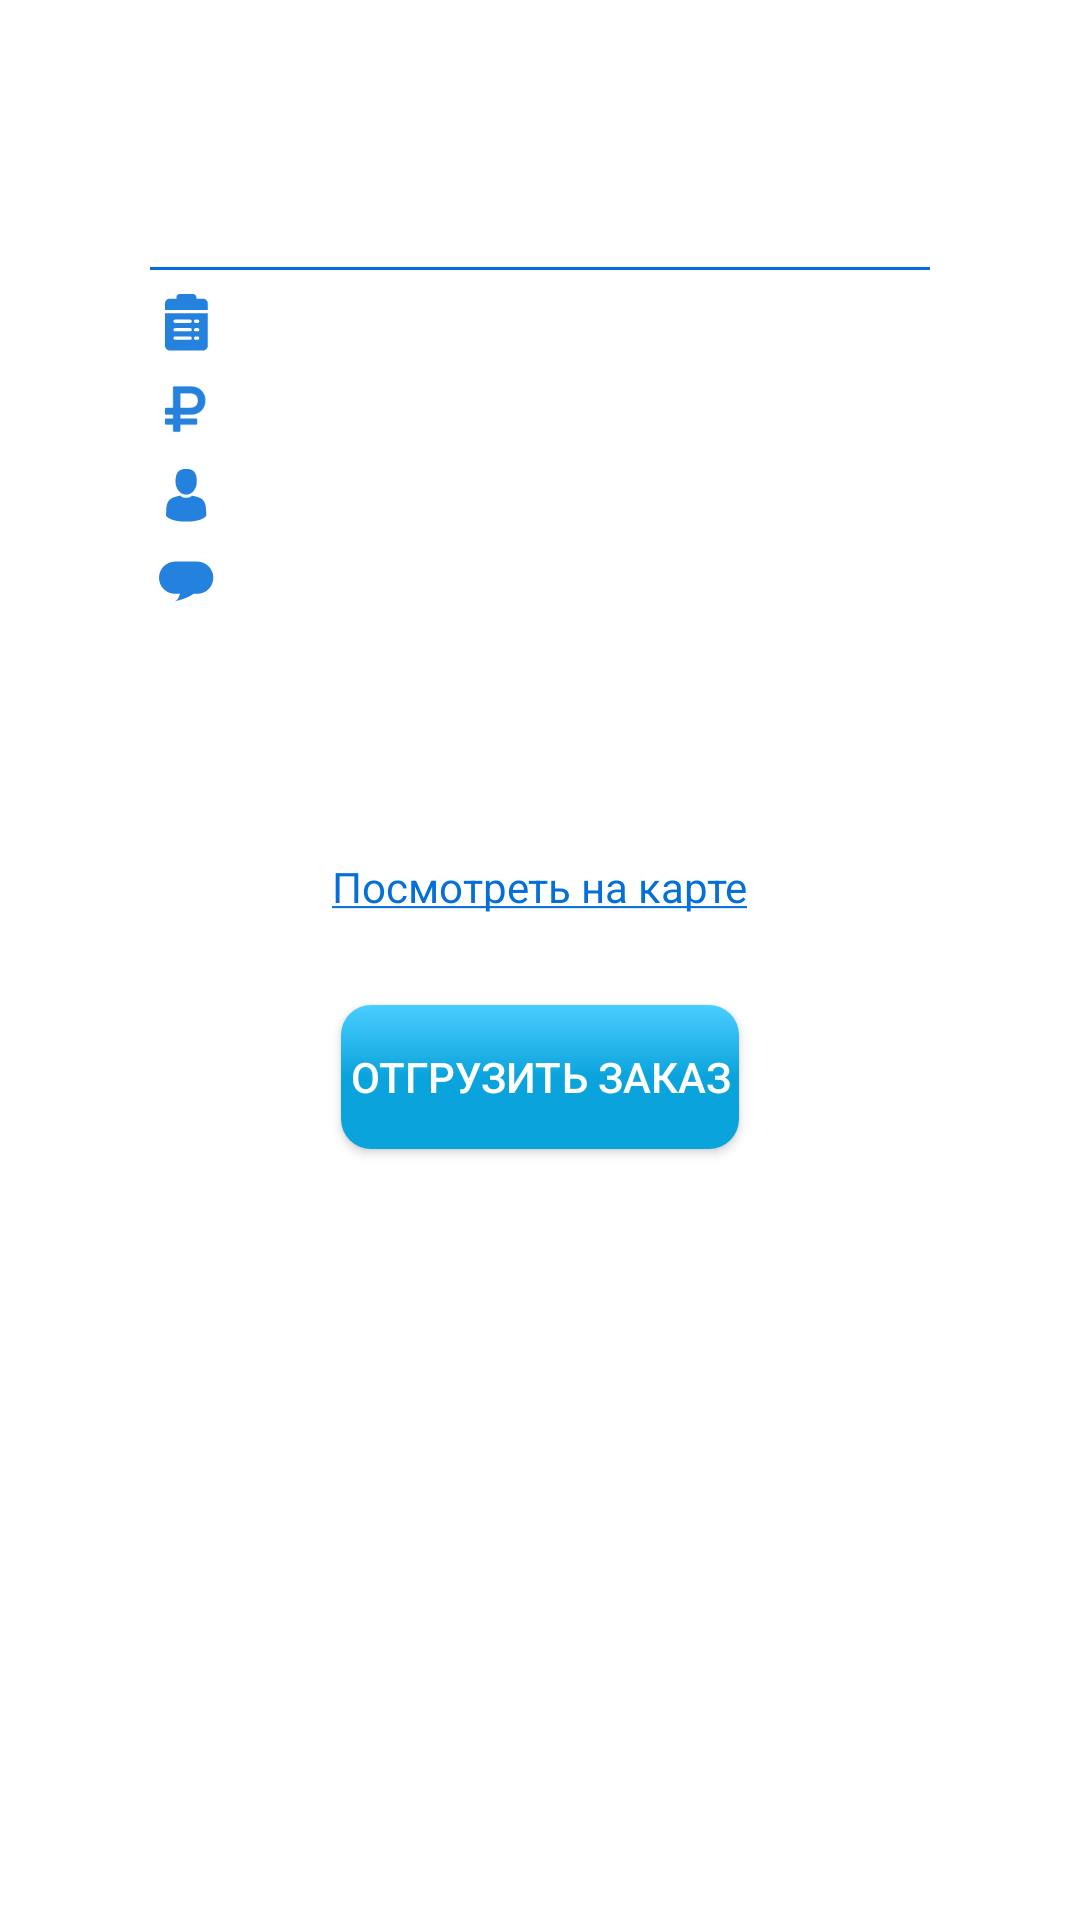

Icons on this 1080w x 1920h Android screen, each with its box as (x1, y1, x2, y2):
client: (166, 468, 207, 522)
comment: (159, 561, 214, 602)
order: (165, 294, 208, 351)
price: (165, 386, 206, 432)
